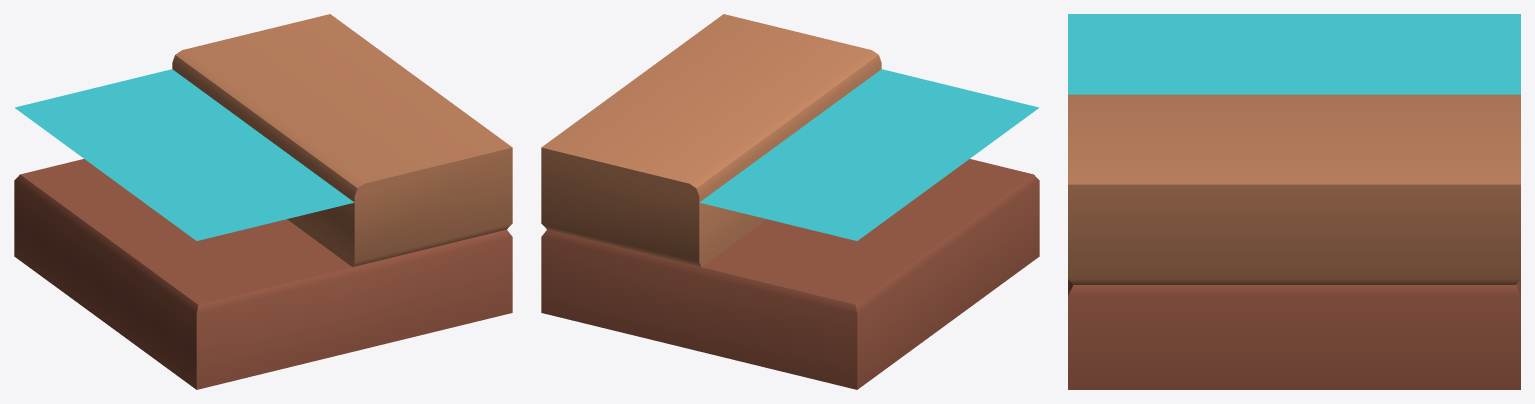
The model's file is square_rock_waterStraight_noSides.glb.
The picture shows the model from 3 angles, left to right: view 1: azimuth 30°, elevation 25°; view 2: azimuth 150°, elevation 25°; view 3: azimuth 270°, elevation 25°; orthographic projection. The views are drawn at different scales.
Parts seen in each view (by area): view 1: square_rock_waterStraight_noSides; view 2: square_rock_waterStraight_noSides; view 3: square_rock_waterStraight_noSides.
Boxes of the visible parts, x1,y1,x2,y2 form: square_rock_waterStraight_noSides: (14, 14, 512, 389); square_rock_waterStraight_noSides: (541, 14, 1039, 389); square_rock_waterStraight_noSides: (1068, 14, 1520, 389).
Bounding box in the file's own units: 3.82 × 1.91 × 3.82.
